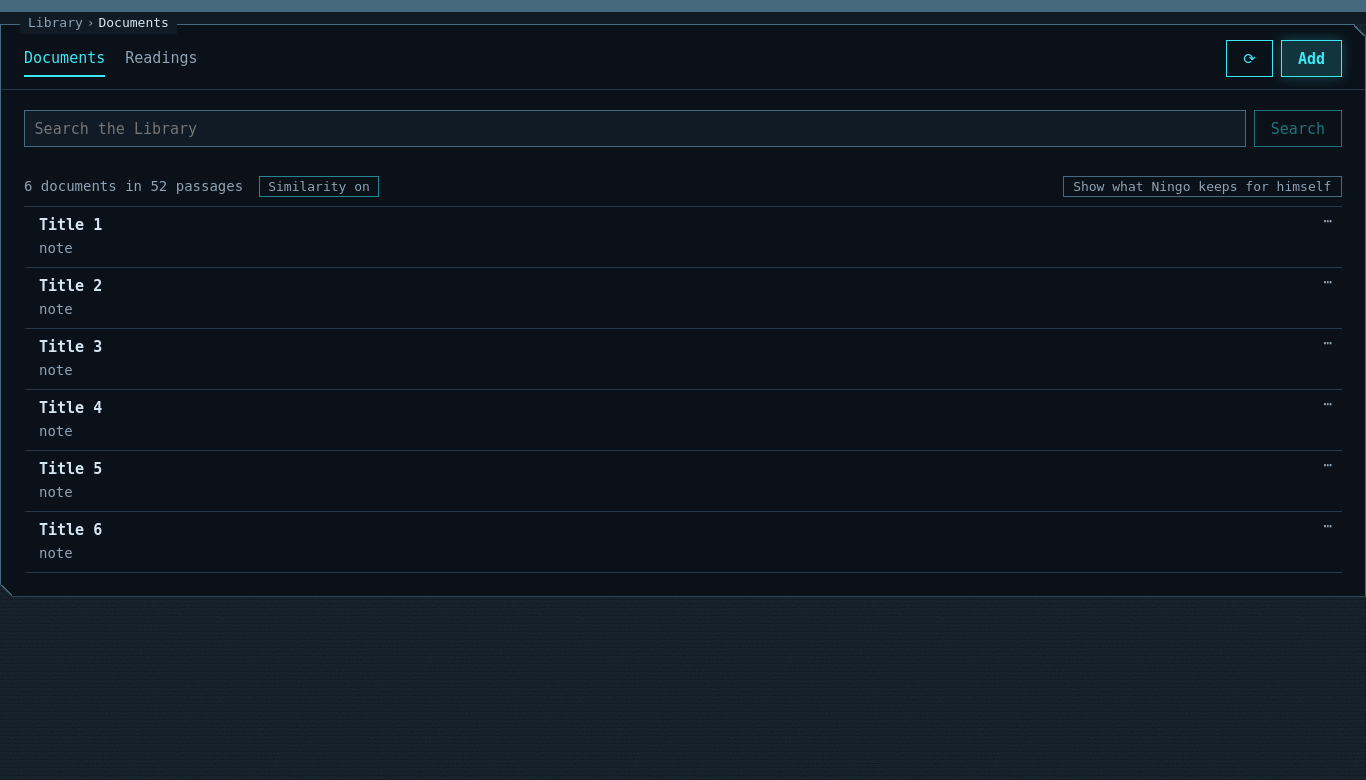
it: what a search finds › is cleared with Clear search: the field is emptied, the list is back and the focus is on the field
This screenshot has width=1366, height=780.
Type "boredom" into the search field. click: (635, 129)
box: x1=24 y1=110 x2=1246 y2=147
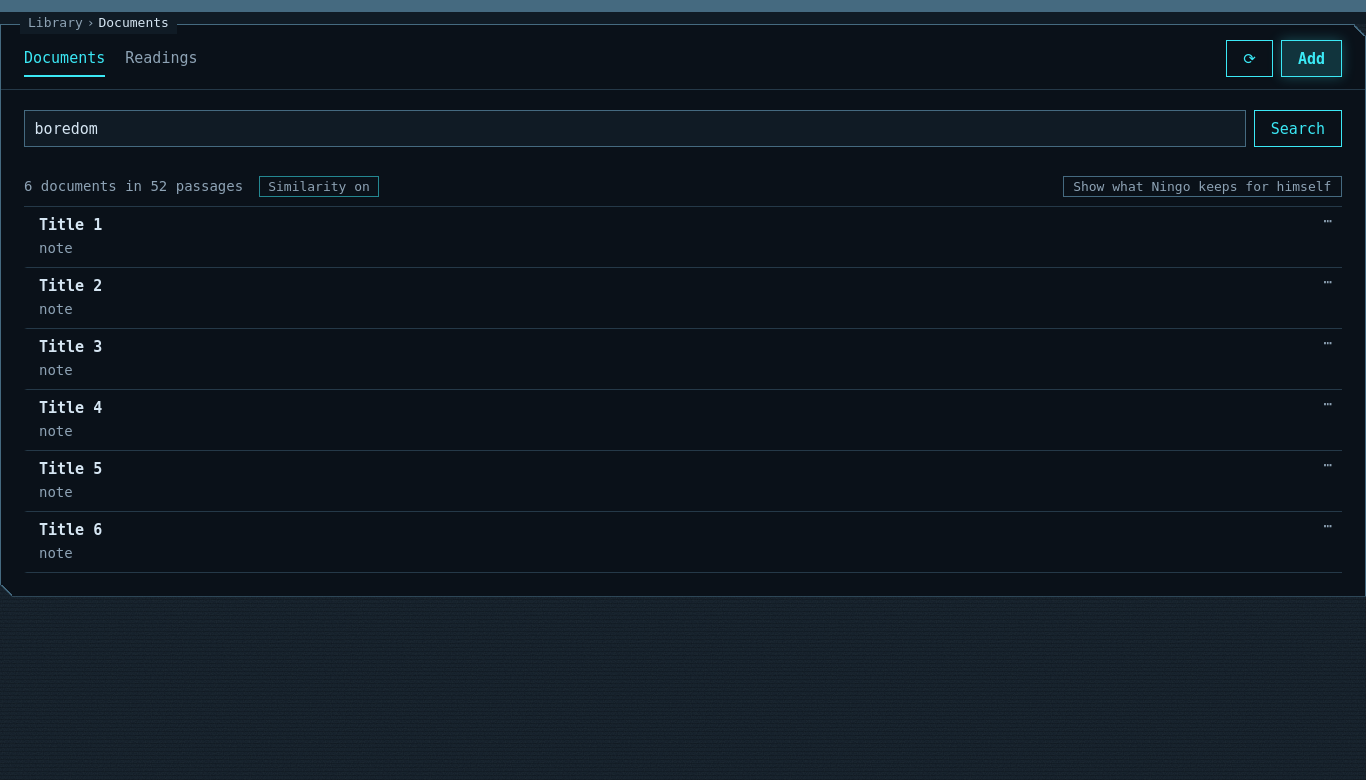
Click the button "Search". click: (1298, 129)
box: x1=1254 y1=110 x2=1342 y2=147
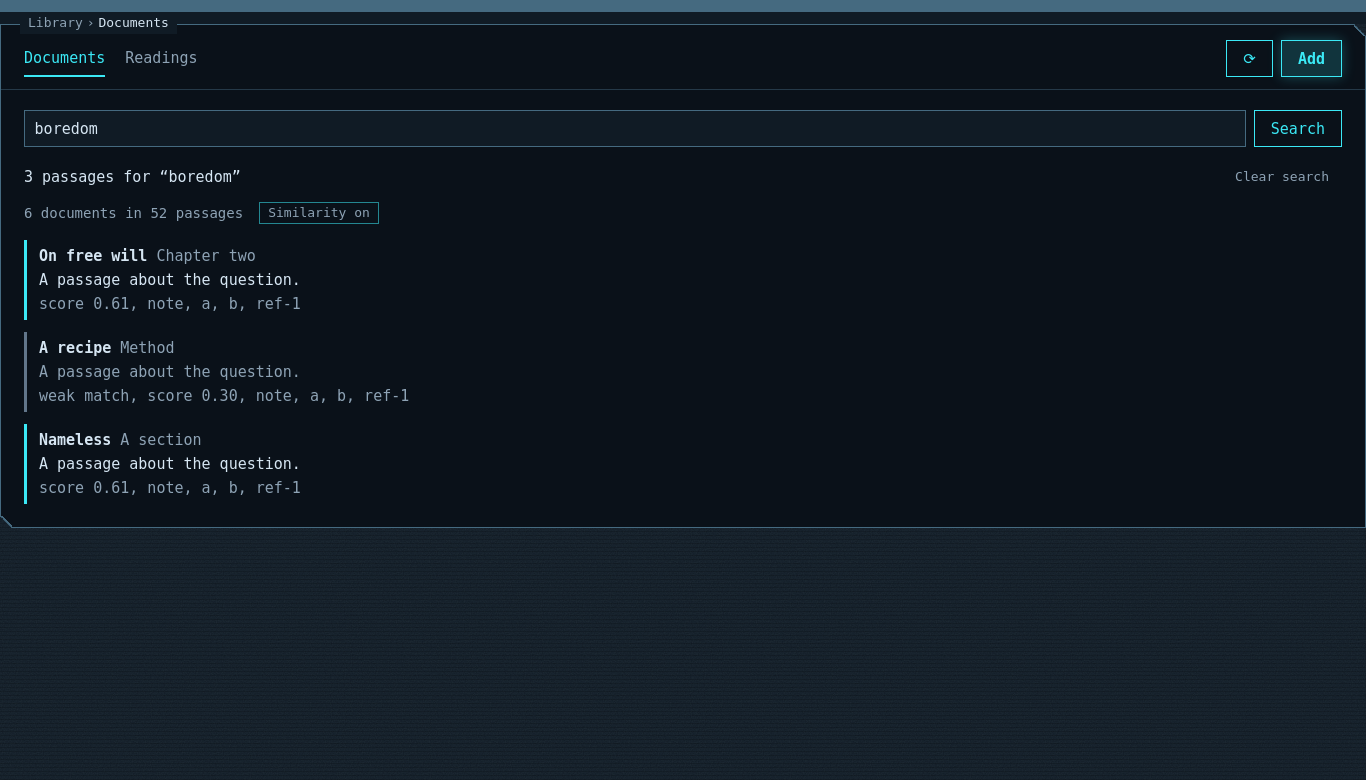
Expected: the text "3 passages for “boredom”" is shown, x1=24 y1=165 x2=241 y2=189
Click the button "Clear search". click: (1282, 177)
box: x1=1222 y1=163 x2=1342 y2=190
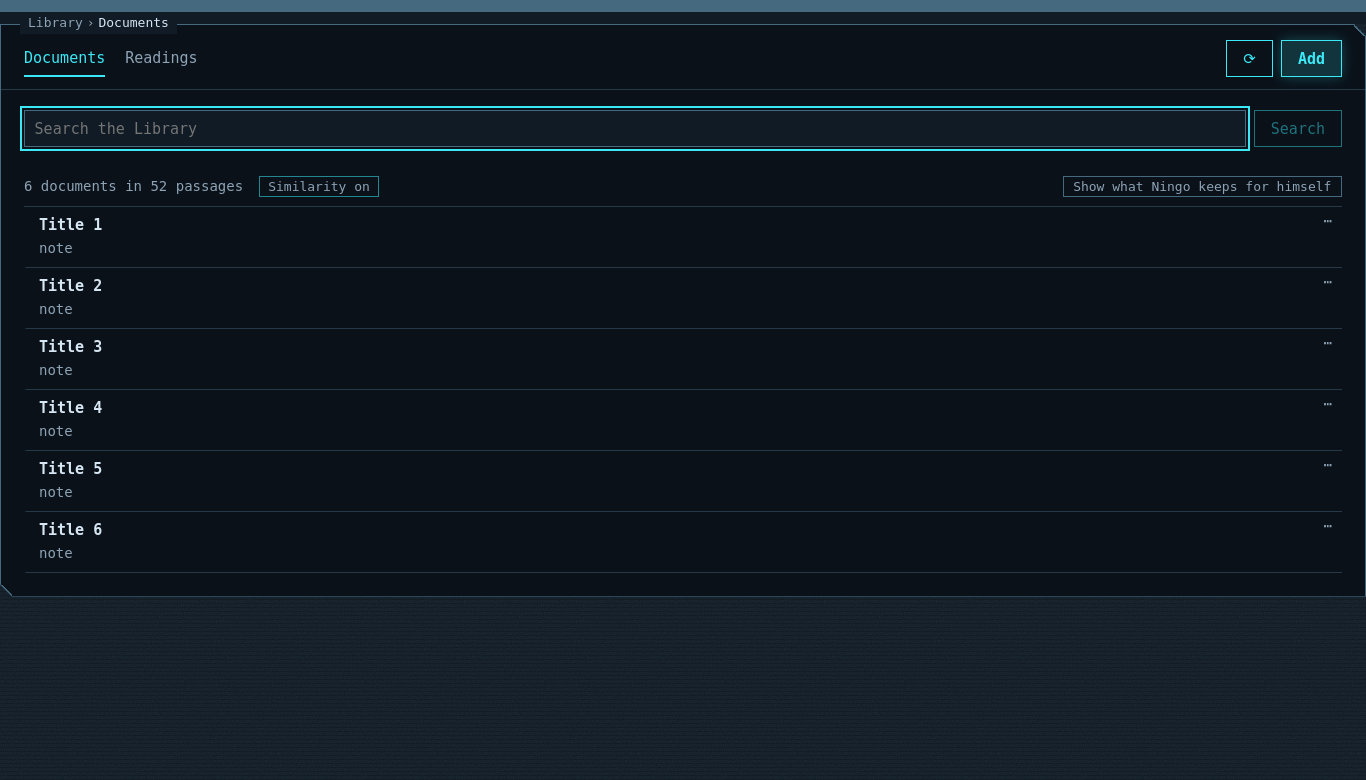
Expected: the search field is empty, x1=24 y1=110 x2=1246 y2=147
Expected: the text "Title 1" is shown, x1=39 y1=216 x2=102 y2=234
Expected: the text "3 passages for “boredom”" is gone
